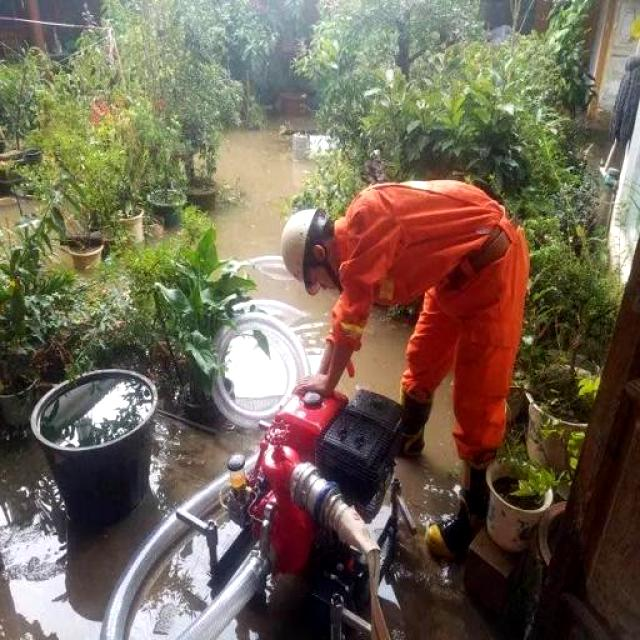rescuer: (274, 141, 546, 556)
